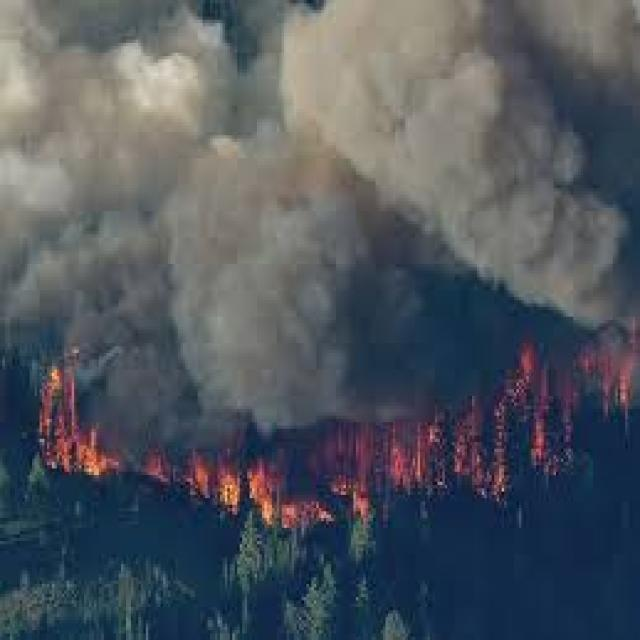Fire: (39, 368, 116, 480), (301, 424, 386, 524), (528, 348, 592, 467), (421, 392, 483, 509), (250, 462, 276, 524), (220, 471, 238, 514), (196, 458, 212, 495), (145, 452, 165, 479)
Smoke: (0, 0, 638, 334)
